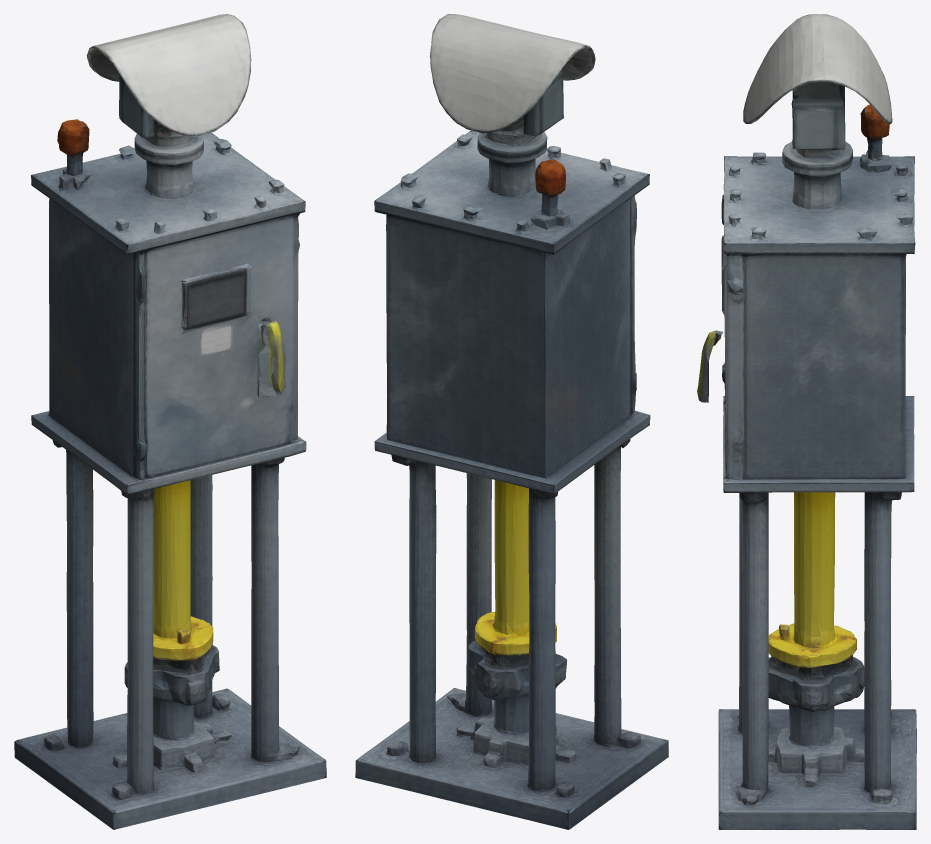
The model's file is hushpoint_tide_gauge_optimized.glb.
3 renders of one model, left to right at view 1: azimuth 30°, elevation 25°; view 2: azimuth 150°, elevation 25°; view 3: azimuth 270°, elevation 25°, orthographic.
Parts seen in each view (by area): view 1: HUSHPOINT_Tide_Gauge; view 2: HUSHPOINT_Tide_Gauge; view 3: HUSHPOINT_Tide_Gauge.
Part boxes in pixels (box(x1,y1,x2,y2)): HUSHPOINT_Tide_Gauge: box(14, 14, 326, 829); HUSHPOINT_Tide_Gauge: box(355, 14, 668, 829); HUSHPOINT_Tide_Gauge: box(697, 14, 916, 829).
Size of the model in its own units: 0.3036 by 0.9997 by 0.2717.
Materials: 1 (1 with a texture image).
